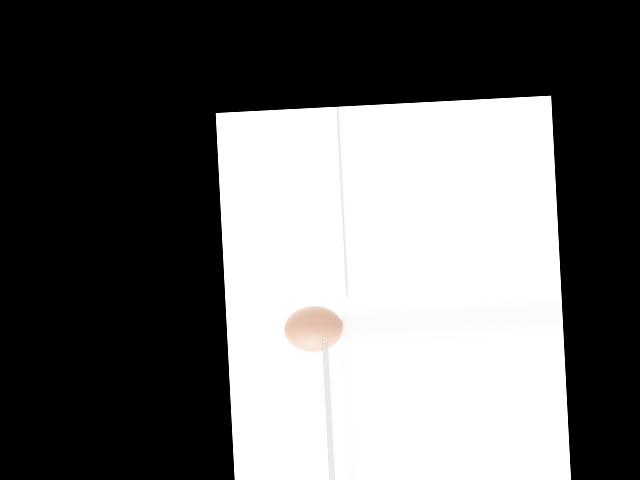egg: (283, 305, 342, 353)
